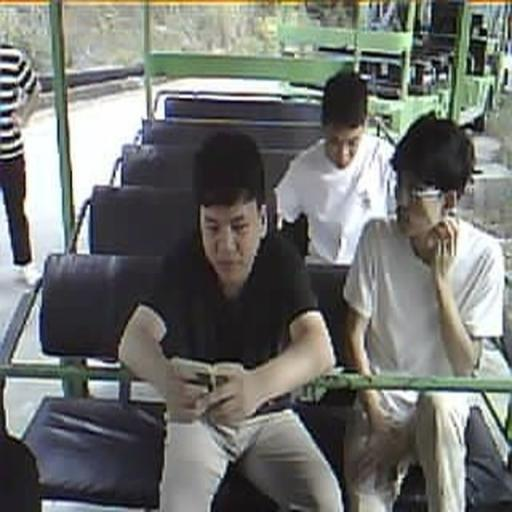persona: (118, 130, 344, 510), (341, 112, 511, 510), (273, 68, 399, 267)
